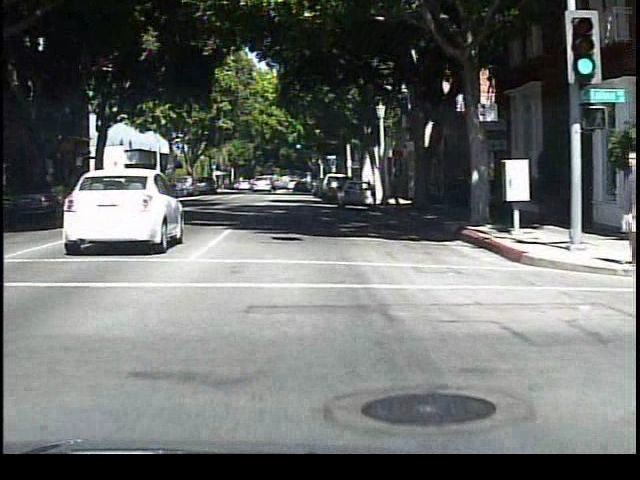person: (607, 147, 638, 270)
